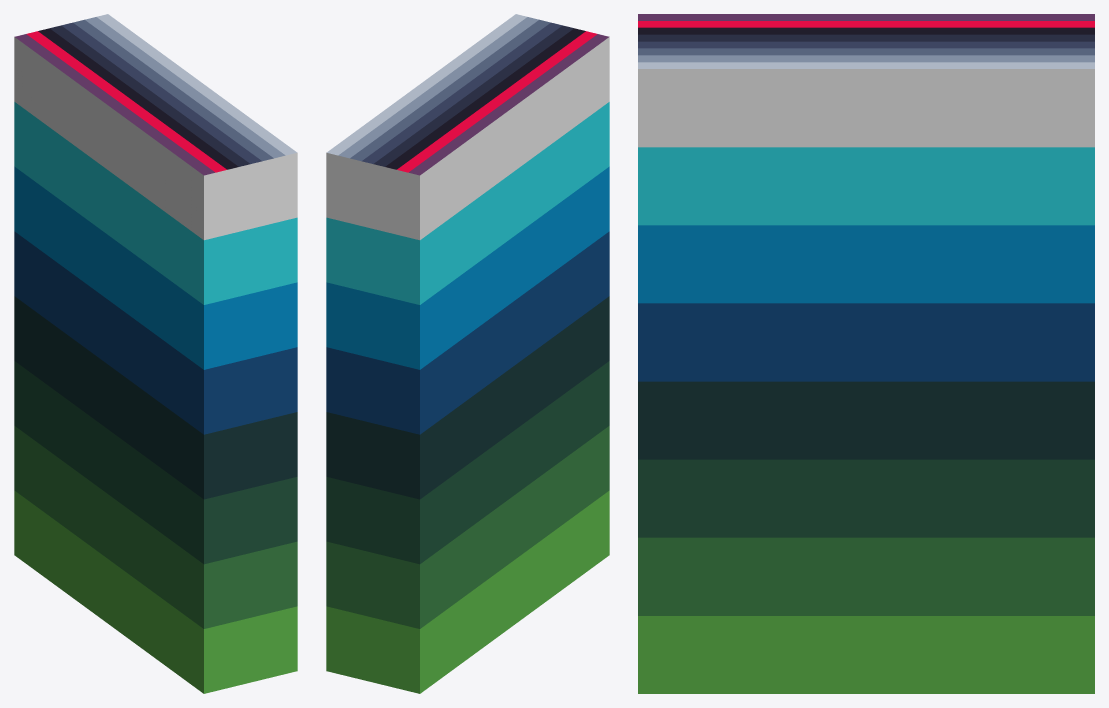
File: GradedMagazine.glb
The picture shows the model from 3 angles, left to right: view 1: azimuth 30°, elevation 25°; view 2: azimuth 150°, elevation 25°; view 3: azimuth 270°, elevation 25°; orthographic projection. The views are drawn at different scales.
Visible parts, largest first — view 1: Cube.001; view 2: Cube.001; view 3: Cube.001.
Part boxes in pixels (x1,y1,x2,y2): Cube.001: (14,14,297,693); Cube.001: (326,14,609,693); Cube.001: (638,14,1094,693).
Size of the model in its own units: 0.6348 by 3.36 by 2.23.
Materials: 2 (2 with a texture image).
